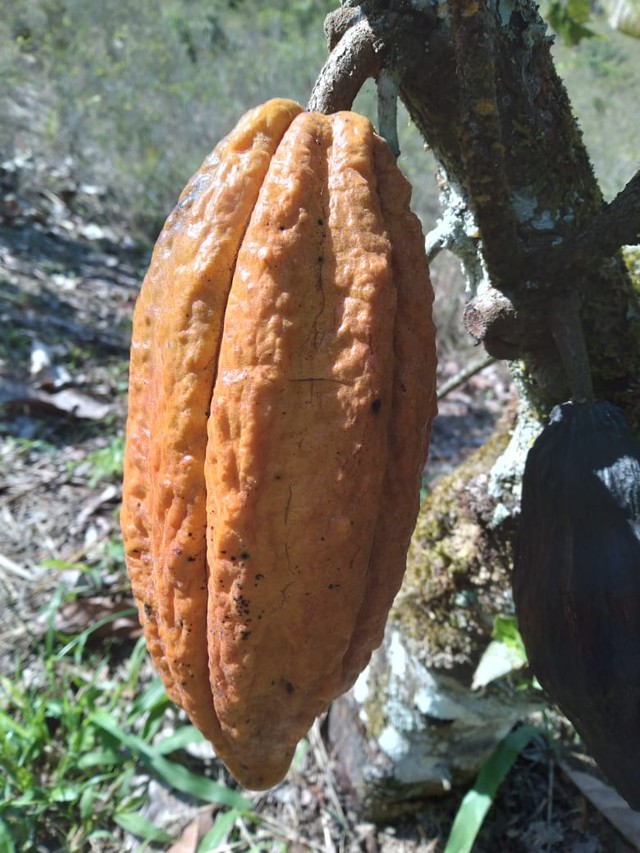Health: (115, 94, 443, 800)
